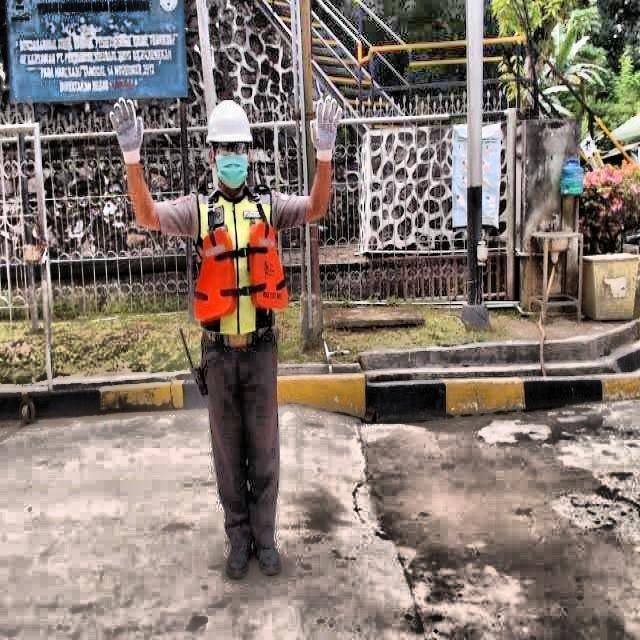safety_jacket: (195, 195, 290, 335)
